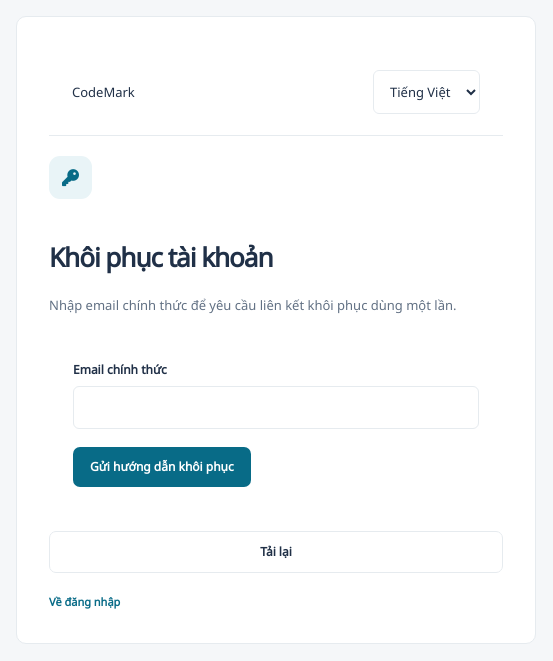
Self-service workflows in a simulated DOM; no browser or network › shows generic recovery confirmation without revealing account existence
The width and height of the screenshot is (553, 661).
Type "unknown@example.test" into the field labelled "Email chính thức" at (276, 408), box x1=73 y1=386 x2=479 y2=429
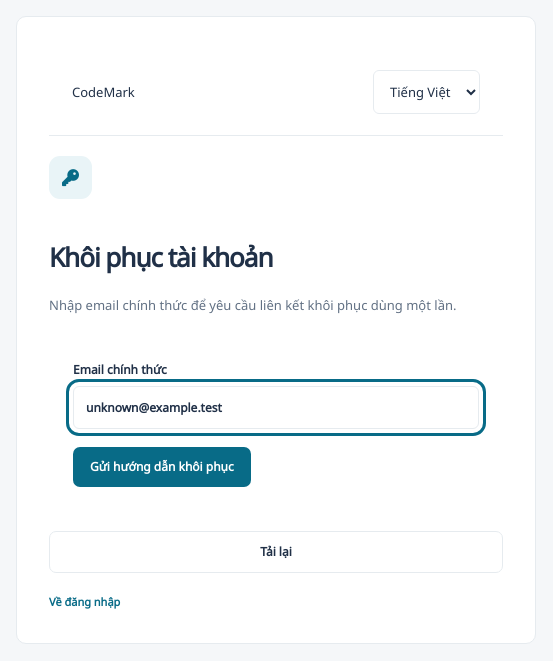
Click the button "Gửi hướng dẫn khôi phục" at (162, 467), box x1=73 y1=447 x2=251 y2=487
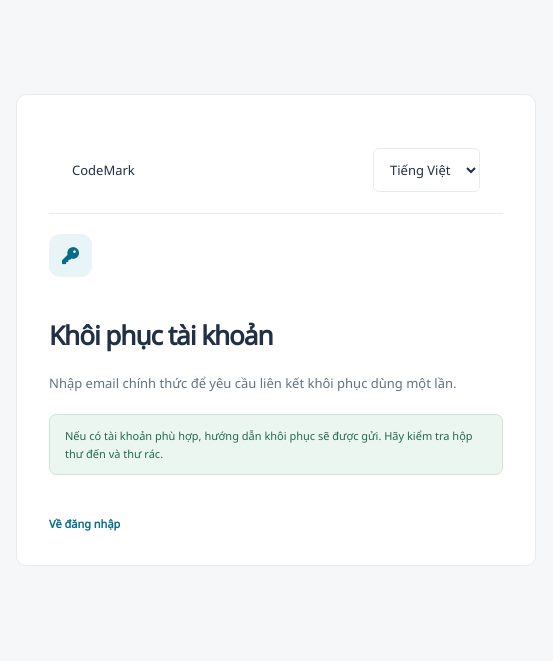
Result: the message is shown at x1=49 y1=414 x2=503 y2=475
Result: the text "Nếu có tài khoản phù hợp" is shown at x1=65 y1=428 x2=473 y2=460
